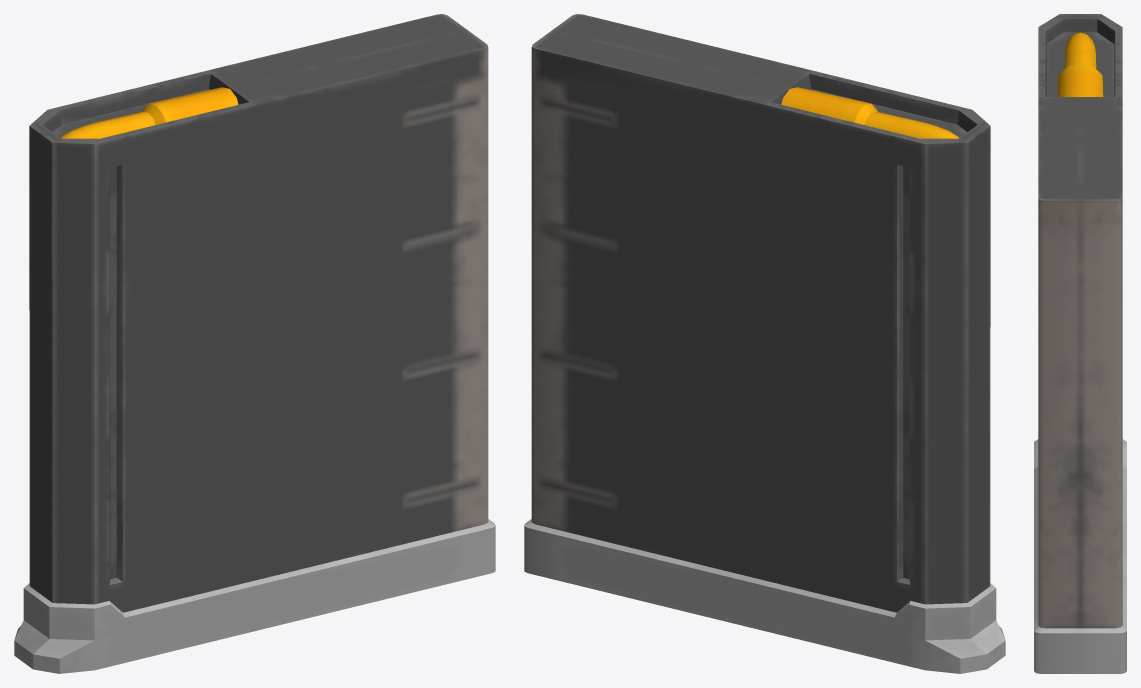
File: Gun_Sniper_Ammo.gltf
3 views of the same model, side by side, from view 1: azimuth 30°, elevation 25°; view 2: azimuth 150°, elevation 25°; view 3: azimuth 270°, elevation 25° (orthographic). The views are drawn at different scales.
Visible parts, largest first — view 1: Gun_Sniper_Ammo; view 2: Gun_Sniper_Ammo; view 3: Gun_Sniper_Ammo.
Part boxes in pixels (x1,y1,x2,y2): Gun_Sniper_Ammo: [14, 14, 495, 673]; Gun_Sniper_Ammo: [524, 14, 1005, 673]; Gun_Sniper_Ammo: [1034, 14, 1126, 673].
Bounding box in the file's own units: 0.1384 × 0.1546 × 0.0275.
Materials: 1 (1 with a texture image).
